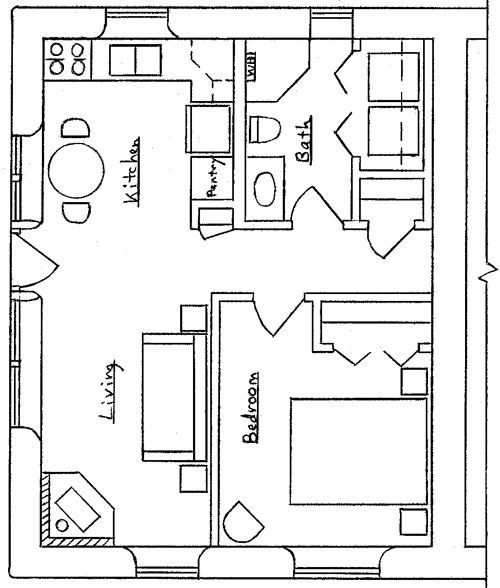door: (292, 177, 348, 234), (250, 295, 307, 344)
room: (209, 273, 480, 582), (9, 4, 250, 298), (9, 291, 220, 578), (242, 30, 439, 296)
wall: (428, 10, 468, 550), (5, 425, 47, 581), (1, 538, 139, 582), (169, 1, 310, 44), (6, 2, 50, 132), (348, 6, 488, 44), (381, 542, 488, 586), (228, 34, 249, 231), (200, 544, 302, 584), (7, 3, 109, 42), (208, 278, 221, 547), (305, 285, 432, 312), (231, 211, 291, 236), (348, 153, 365, 222), (210, 290, 253, 310), (311, 283, 322, 355), (337, 217, 373, 234), (311, 338, 340, 358)
window: (6, 300, 25, 428), (293, 558, 378, 585), (6, 133, 27, 219), (138, 555, 201, 583), (108, 2, 168, 26), (310, 3, 352, 24)
